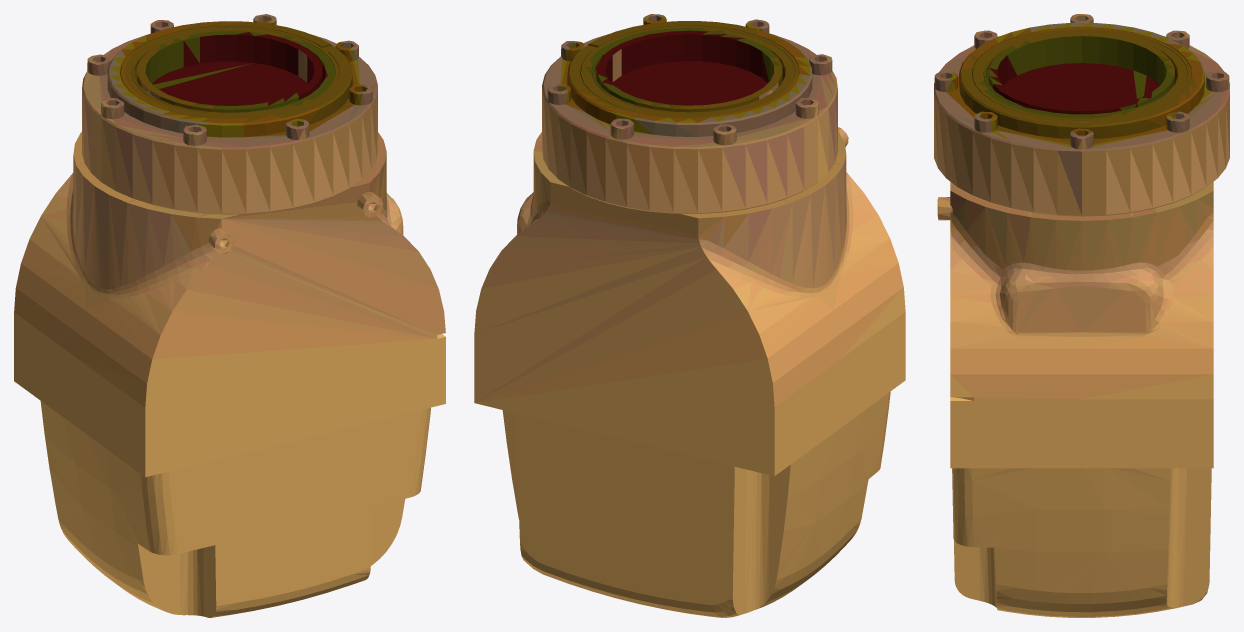
File: IRB120Link5.dae
3 renders of one model, left to right at view 1: azimuth 30°, elevation 25°; view 2: azimuth 150°, elevation 25°; view 3: azimuth 270°, elevation 25°, orthographic.
Parts seen in each view (by area): view 1: IRB120Link5; view 2: IRB120Link5; view 3: IRB120Link5.
Part boxes in pixels (bbox=[...]): IRB120Link5: bbox=[14, 14, 445, 617]; IRB120Link5: bbox=[474, 14, 905, 617]; IRB120Link5: bbox=[934, 14, 1229, 617].
Size of the model in its own units: 0.082 by 0.0698 by 0.1319.
